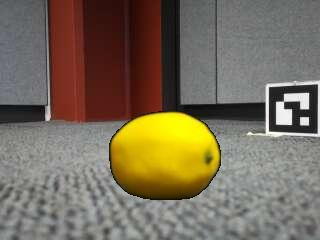lemon: (111, 113, 219, 200)
